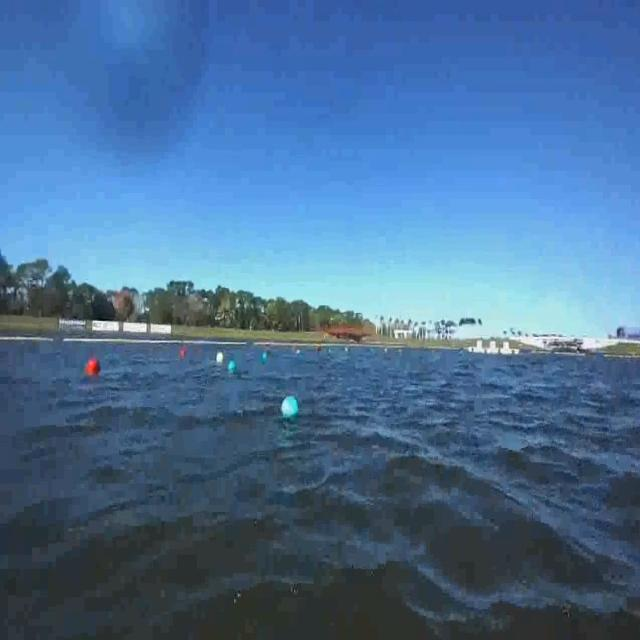green-buoy: (281, 398, 299, 423), (230, 359, 238, 372)
red-buoy: (88, 358, 102, 378), (180, 344, 188, 362)
